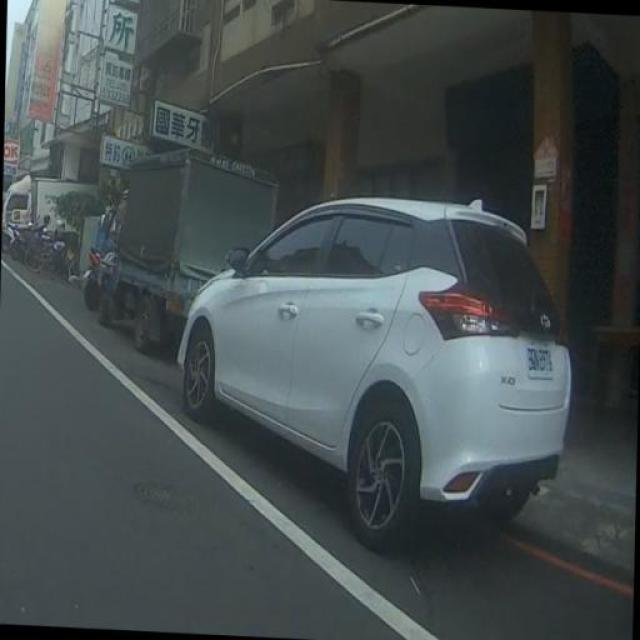illegalparking: (96, 133, 599, 591)
